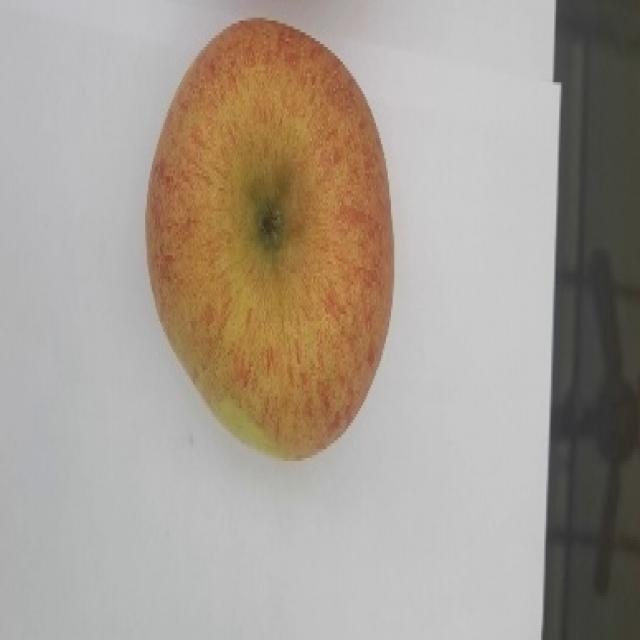Apple: (144, 16, 395, 461)
